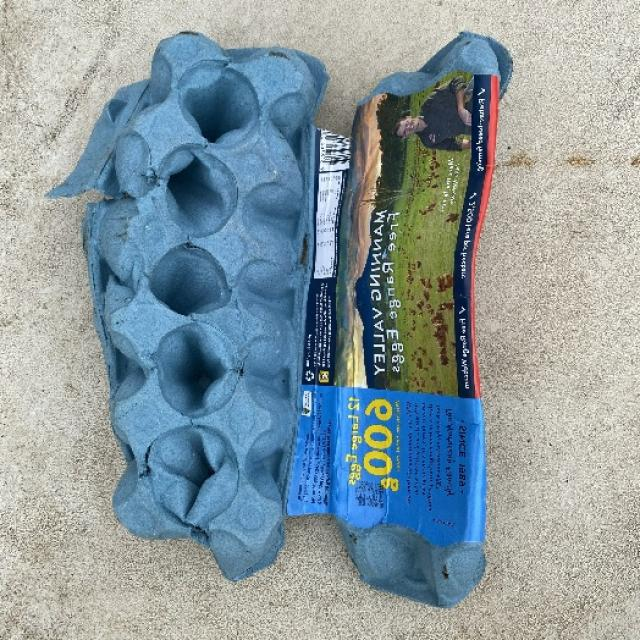inorganic: (112, 27, 519, 598)
